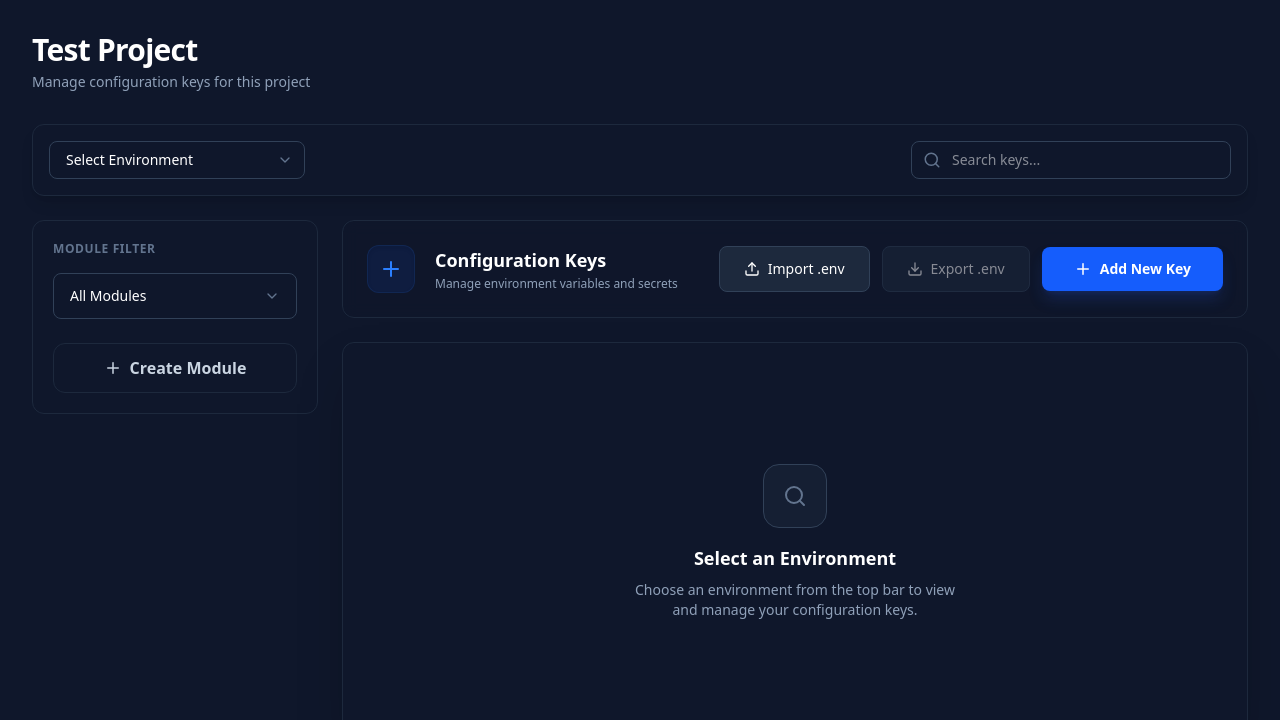
Test: ProjectKeys Tests › should open Add Key modal
The image size is (1280, 720).
Step 1. Click the button "Add New Key" → (1132, 269), box 1042,247 -> 1223,291
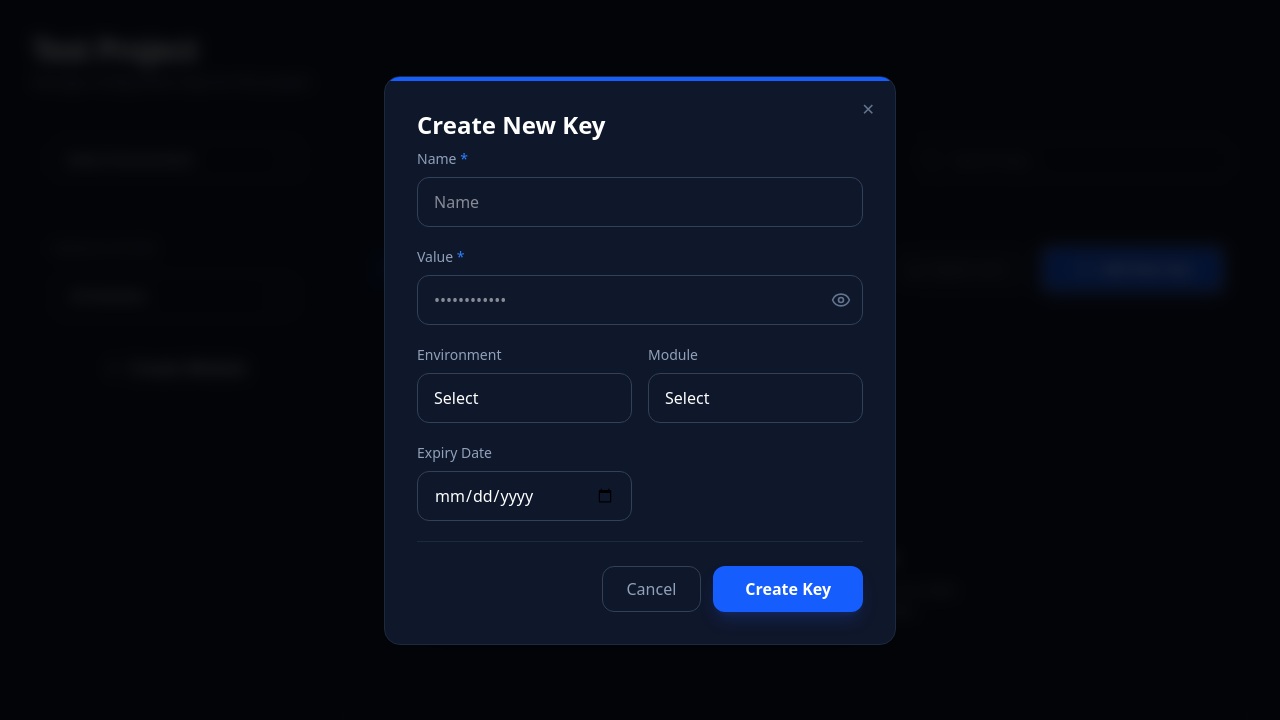
expect the heading "Create New Key" is shown: met, box 417,108 -> 606,140
